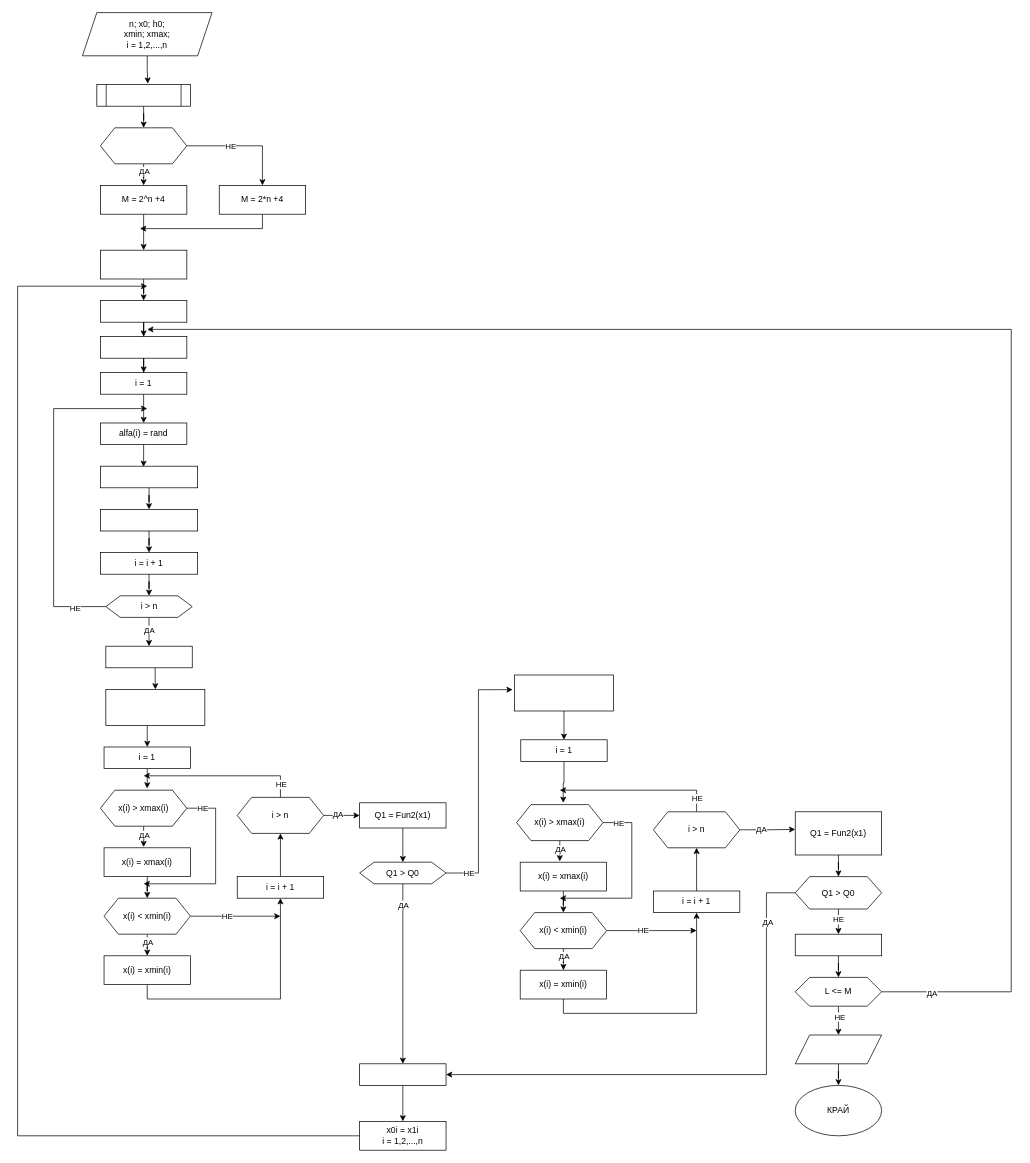
This 1030x1163 diagram has some shape labels left out. The centre of each missing label's shape, as x and y in pixels:
beta(i) = (alfa(i) - 0.5) / 2: [149,476]
Fun2 -> max: [143,95]
L = 0: [143,311]
L = L + 1: [838,944]
n <= 3: [143,145]
Q0 = Fun2(x0): [143,264]
Q0 = Q1: [402,1074]
Q0, x0i i = 1,2,...,n: [838,1049]
S = 0: [143,347]
S = S + (beta(i))^2: [149,520]
S = sqrt(S): [148,656]
xi = x0i + h0i * beta(i) / S i = 1,2,...,n: [155,707]
xi = x0i - h0i * beta(i) / S i = 1,2,...,n: [563,692]
